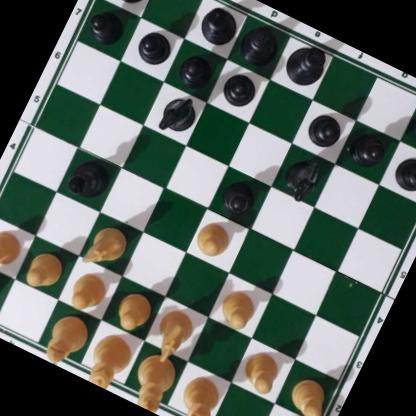black-bishop: (62, 152, 117, 205), (192, 1, 242, 51)
black-king: (280, 39, 331, 92)
black-knight: (277, 150, 327, 204), (156, 88, 202, 138)
black-pawn: (217, 173, 262, 220), (303, 105, 348, 151), (218, 64, 262, 111), (347, 126, 391, 171), (85, 3, 128, 47), (132, 25, 175, 69), (175, 48, 217, 92), (390, 150, 416, 197)
black-queen: (235, 20, 286, 72)
black-rook: (98, 0, 158, 8), (410, 96, 416, 156)
white-bishop: (38, 310, 95, 373), (171, 371, 226, 416)
white-king: (123, 348, 182, 415)
white-knight: (144, 302, 200, 368), (80, 217, 133, 274)
white-pawn: (236, 344, 286, 396), (214, 282, 261, 332), (110, 285, 157, 334), (64, 267, 111, 316), (22, 244, 69, 292), (285, 372, 334, 416), (190, 215, 235, 261), (0, 222, 27, 273)
white-queen: (79, 327, 140, 395)
white-rook: (257, 409, 320, 416), (0, 260, 3, 327)
